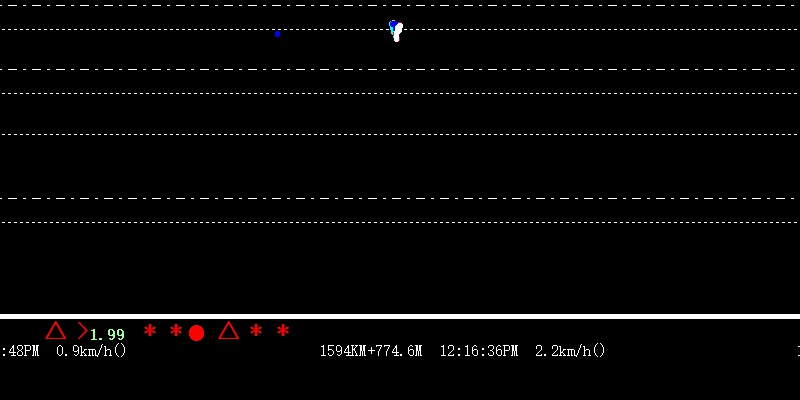circle: (186, 322, 205, 344)
face_2: (384, 16, 408, 46)
face_down: (272, 25, 283, 42)
star: (169, 319, 184, 341), (248, 320, 264, 339), (275, 320, 291, 338), (141, 321, 156, 339)
